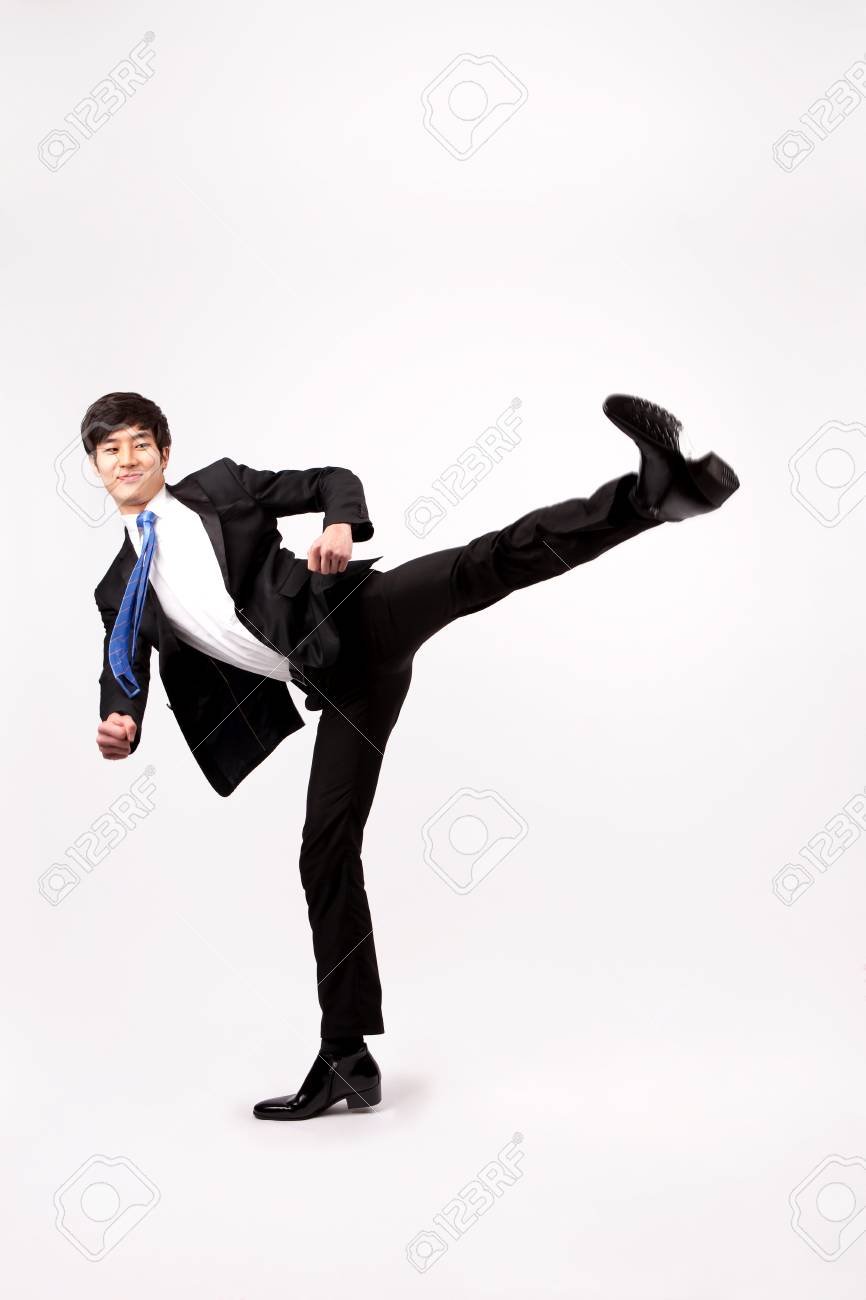Person: (74, 386, 755, 1143)
